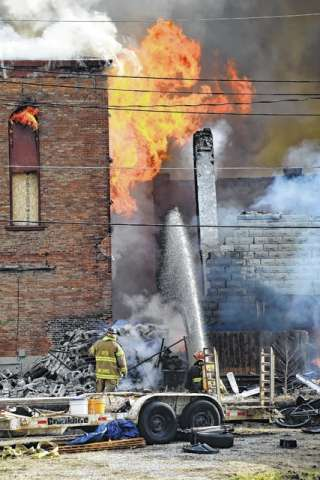fire: (108, 73, 195, 177), (145, 22, 202, 77)
smoke: (2, 2, 127, 64), (222, 2, 317, 82)
